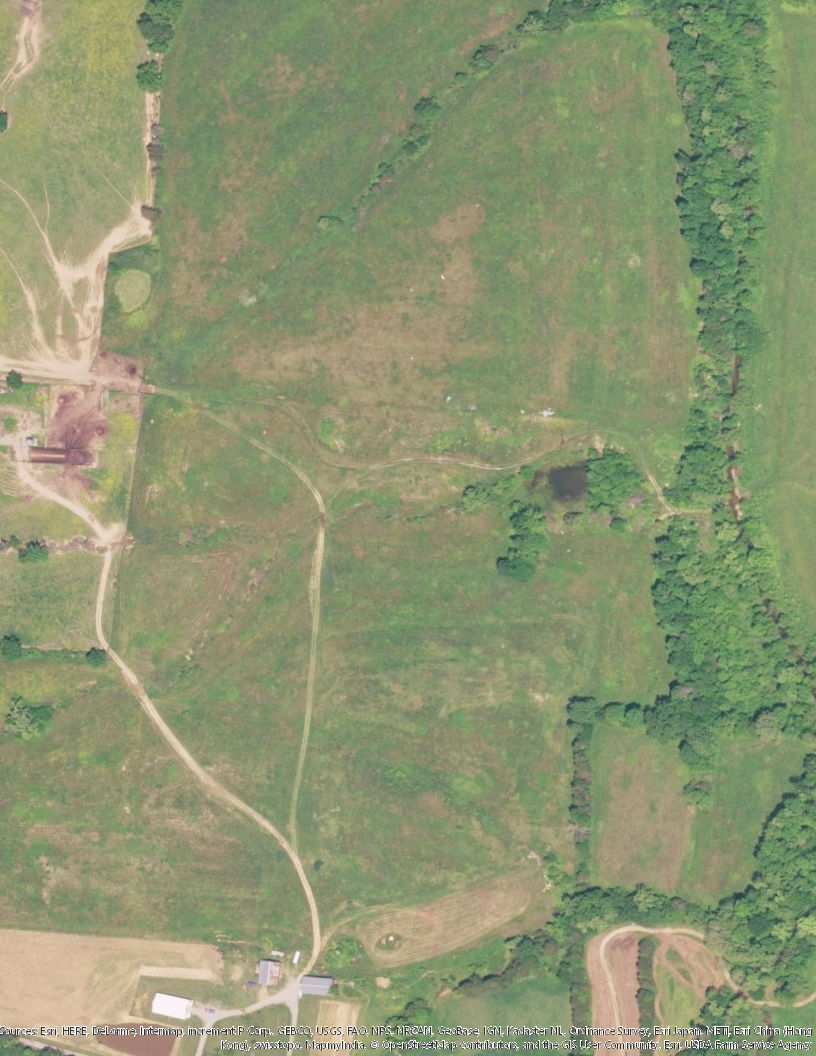cafo: (150, 991, 196, 1021)
